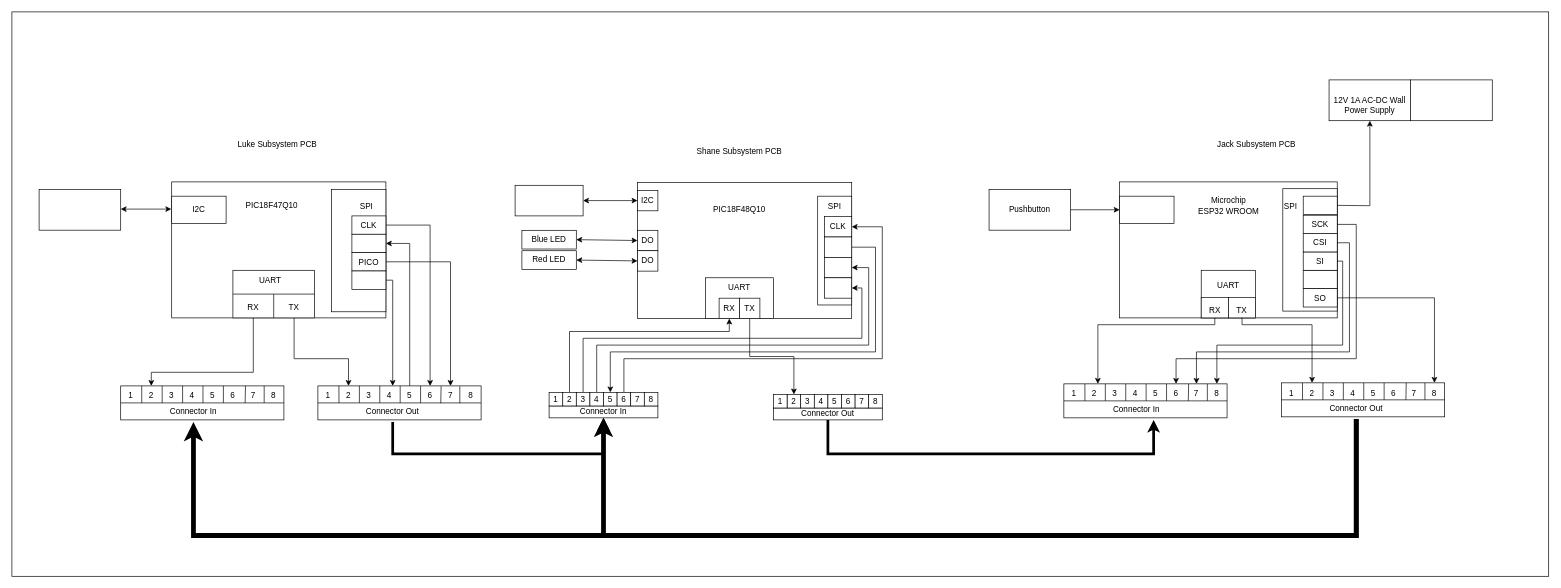
Image size: 1561x588. Some labels were removed from this diagram. Each missing label, with the centre of its shape:
"3.3V 1.5A AC-DC Wall Power Supply" belongs at (x=1451, y=100).
"CS" belongs at (x=368, y=279).
"DI" belongs at (x=1146, y=209).
"OLED Subsystem" belongs at (x=548, y=200).
"OUT" belongs at (x=1320, y=279).
"POCI" belongs at (x=368, y=243).
"SDI" belongs at (x=838, y=267).
"SDO" belongs at (x=838, y=246).
"Sensor Subsystem" belongs at (x=79, y=209).
"SS" belongs at (x=838, y=287).
"VS" belongs at (x=1320, y=205).
